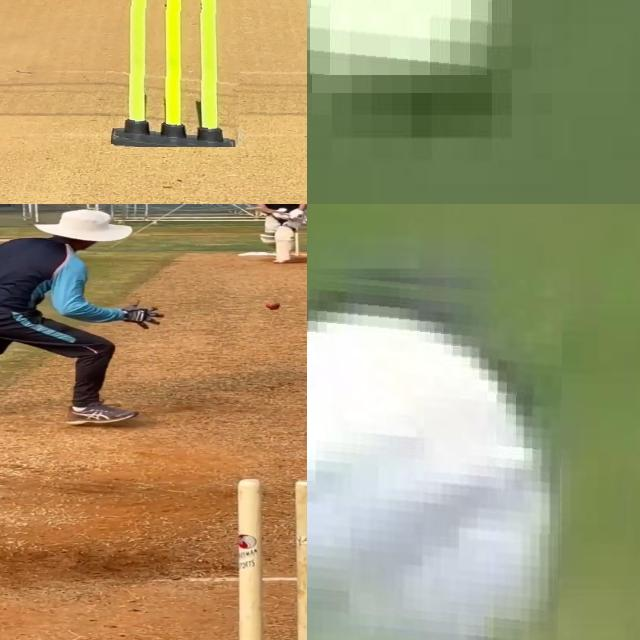Cricket ball: (307, 263, 562, 640), (307, 0, 489, 75), (264, 300, 281, 310)
Stumps: (111, 0, 241, 146), (237, 477, 307, 640)
